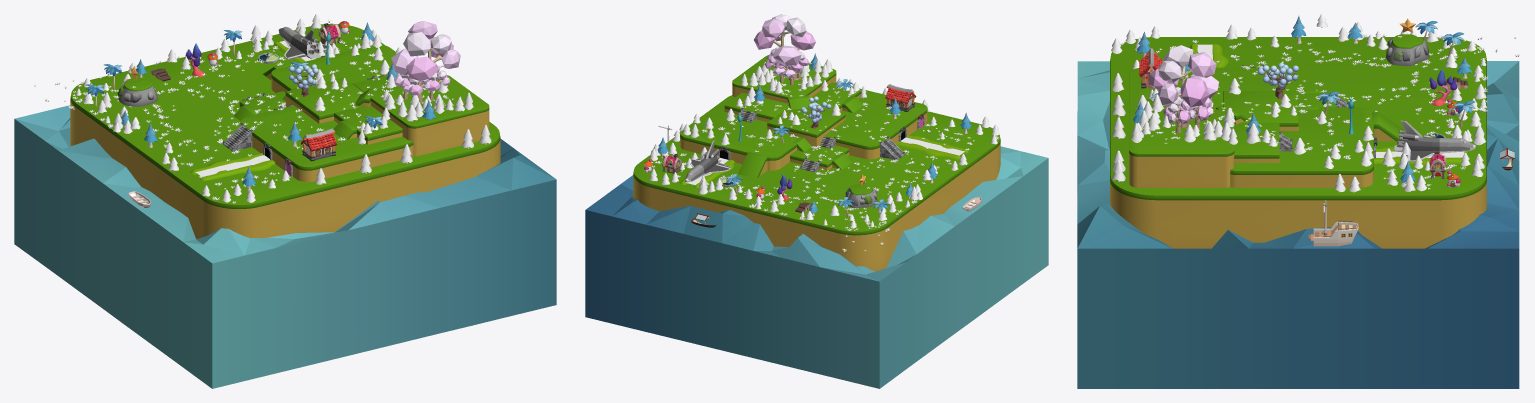
The model's file is LandMass.glb.
3 renders of one model, left to right at view 1: azimuth 30°, elevation 25°; view 2: azimuth 150°, elevation 25°; view 3: azimuth 270°, elevation 25°, orthographic. The views are drawn at different scales.
Parts seen in each view (by area): view 1: water location japanes island, Ground (×7), sakura tree, LOD0 (×2), space shuttle, house_003, big_fabulous_tree_001, Stair; view 2: water location japanes island, Ground (×8), sakura tree, LOD0 (×2), space shuttle, house_003, Ramp02, big_fabulous_tree_001; view 3: water location japanes island, Ground (×7), sakura tree, LOD0 (×3), space shuttle, destroyed ship, big_fabulous_tree_001, Ramp02, sakura tree (4), house_003, fabulous_mushroom_002, house_002 (+1 smaller).
Boxes of the visible parts, x1,y1,x2,y2 form: water location japanes island: (14,105,556,388); Ground (×7): (70,23,500,238); sakura tree: (391,21,460,103); LOD0 (×2): (117,78,275,180); space shuttle: (278,26,326,59); house_003: (301,128,337,161); big_fabulous_tree_001: (288,64,318,96); Stair: (223,123,252,151); water location japanes island: (585,146,1048,388); Ground (×8): (633,55,1000,271); sakura tree: (754,14,815,80); LOD0 (×2): (845,135,968,208); space shuttle: (685,140,731,182); house_003: (885,84,916,111); Ramp02: (738,152,767,178); big_fabulous_tree_001: (801,96,831,128); water location japanes island: (1077,61,1519,388); Ground (×7): (1110,37,1486,248); sakura tree: (1149,45,1218,127); LOD0 (×3): (1190,34,1467,166); space shuttle: (1394,120,1476,161); destroyed ship: (1308,200,1358,246); big_fabulous_tree_001: (1257,63,1298,98); Ramp02: (1372,112,1403,141); sakura tree (4): (1163,96,1192,132); house_003: (1139,48,1163,88); fabulous_mushroom_002: (1429,69,1456,106); house_002: (1429,150,1447,178).
Size of what is drawn, in the model's own units: 119 by 85.72 by 118.
10 materials, 5 textured.
